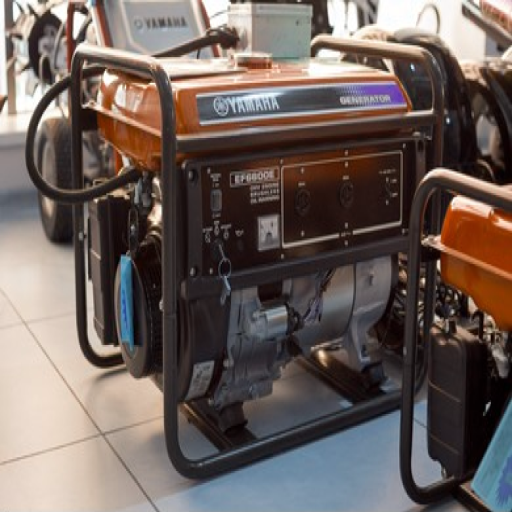portable_generator: (72, 36, 444, 477)
